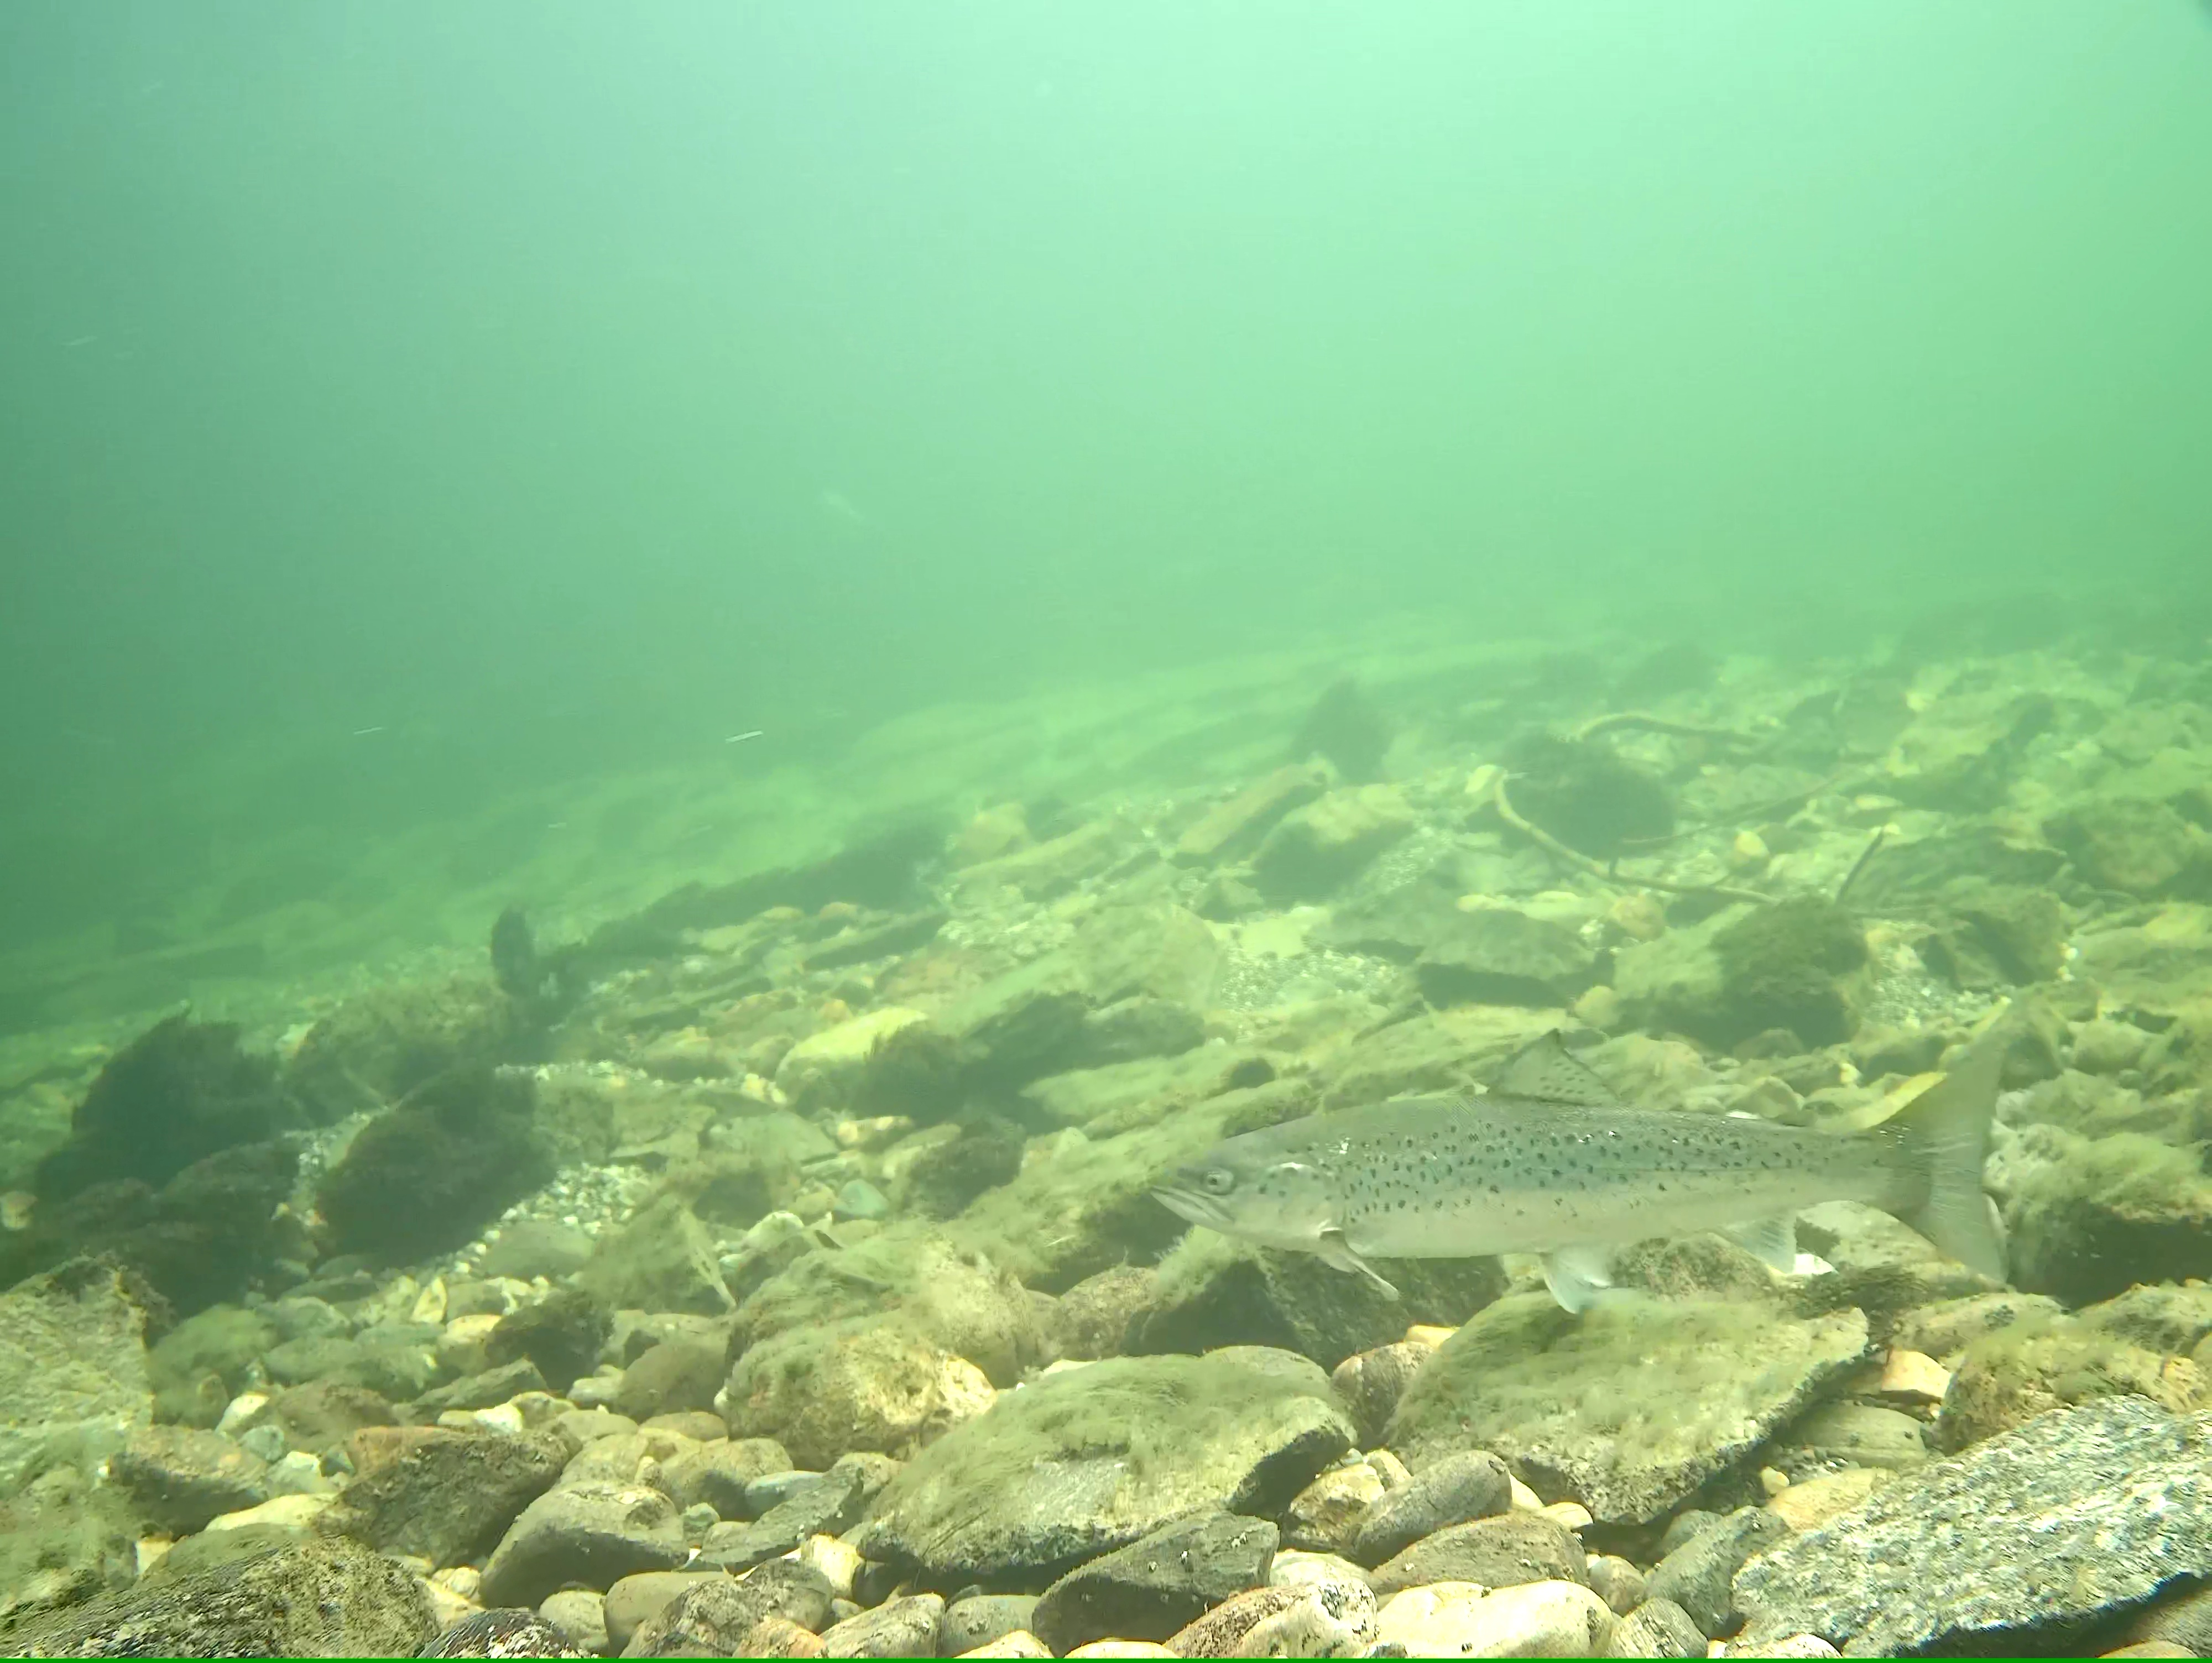salmon: (1143, 1025, 2018, 1315)
